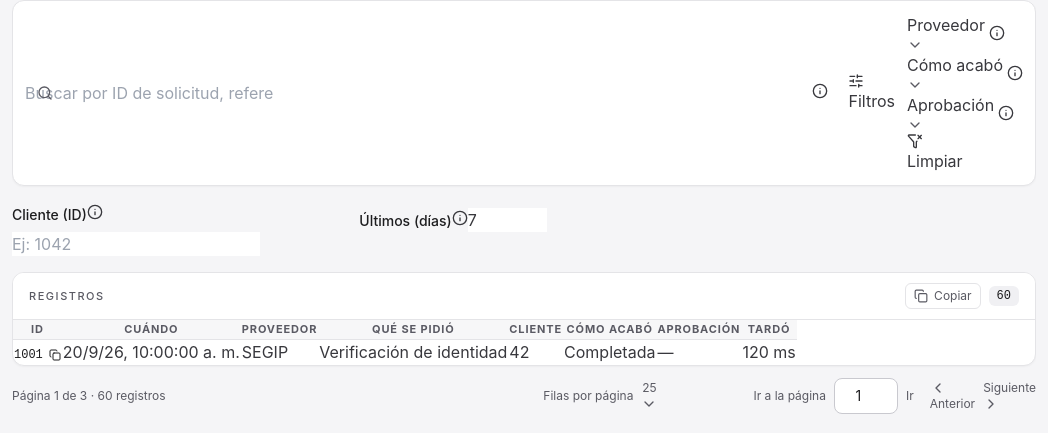
Scenario: Solicitudes a proveedores (P2) › pagina con el meta del servidor: la página 2 pide offset 25
Expected: the button "1001" is shown, [14,346,61,362]
Click the button "Siguiente".
click(1010, 396)  # box [983,380,1036,412]
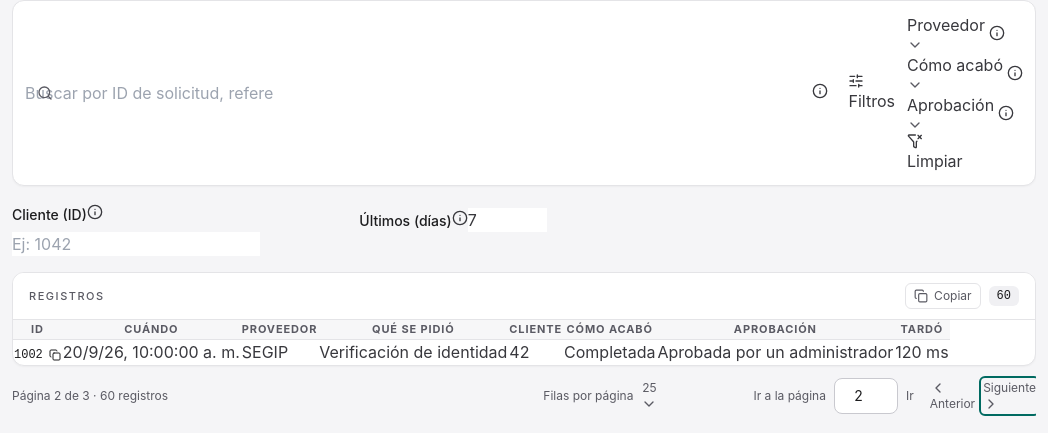
Expected: the button "1002" is shown, [14,346,61,362]
Expected: the text "Aprobada por un administrador" is shown, [656,338,894,364]
